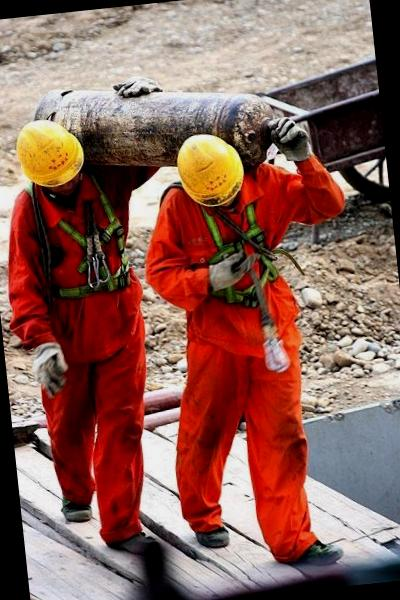helmet: (170, 126, 254, 216), (12, 110, 91, 197)
person: (130, 115, 357, 580), (0, 109, 169, 566)
